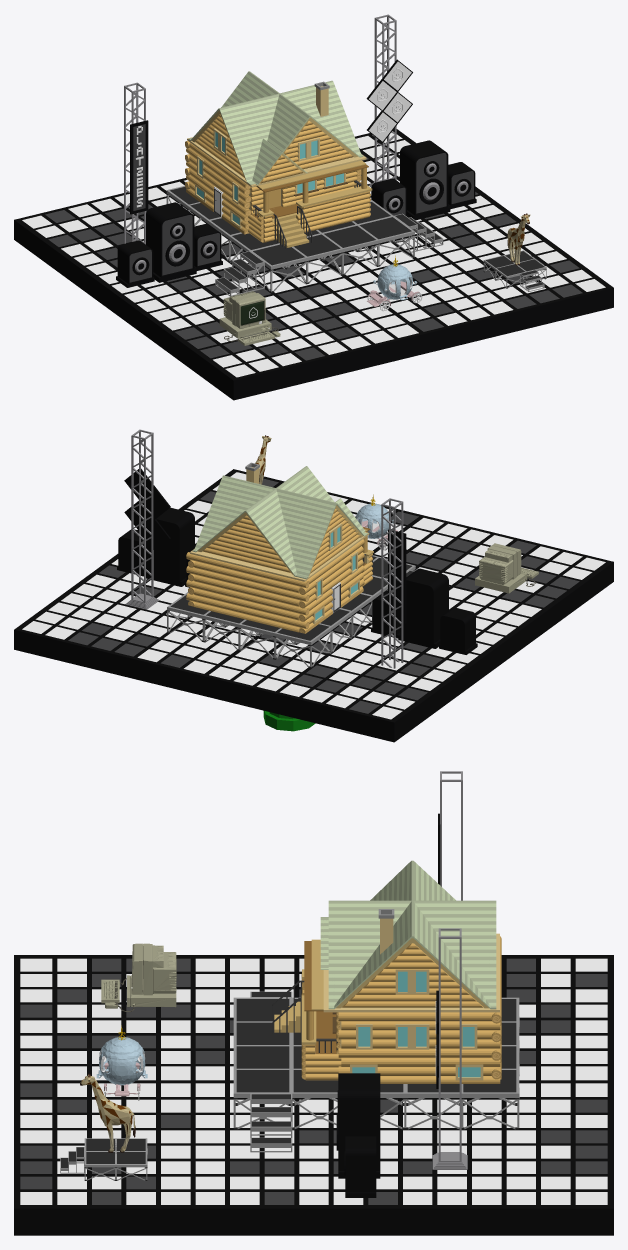
The picture shows the model from 3 angles, top to bottom: view 1: azimuth 30°, elevation 25°; view 2: azimuth 150°, elevation 25°; view 3: azimuth 270°, elevation 25°; orthographic projection. The views are drawn at different scales.
Parts seen in each view (by area): view 1: Cube.008, Cube.1516, OBJRANDOM_RETRO_PC, VEHICLES_FANTASY_CARRIAGE, ANIMAL_JIRAFA; view 2: Cube.008, Cube.1516, OBJRANDOM_RETRO_PC, VEHICLES_FANTASY_CARRIAGE, UNDERGROUND_PIPES; view 3: Cube.008, Cube.1516, OBJRANDOM_RETRO_PC, VEHICLES_FANTASY_CARRIAGE, ANIMAL_JIRAFA.
Boxes of the visible parts, x1,y1,x2,y2 form: Cube.008: [14, 14, 613, 400]; Cube.1516: [185, 71, 372, 248]; OBJRANDOM_RETRO_PC: [219, 291, 280, 345]; VEHICLES_FANTASY_CARRIAGE: [367, 255, 422, 311]; ANIMAL_JIRAFA: [507, 213, 530, 265]; Cube.008: [14, 429, 613, 742]; Cube.1516: [186, 462, 373, 633]; OBJRANDOM_RETRO_PC: [475, 543, 538, 593]; VEHICLES_FANTASY_CARRIAGE: [355, 494, 397, 550]; UNDERGROUND_PIPES: [263, 711, 315, 731]; Cube.008: [14, 771, 613, 1235]; Cube.1516: [272, 860, 501, 1083]; OBJRANDOM_RETRO_PC: [101, 943, 176, 1011]; VEHICLES_FANTASY_CARRIAGE: [96, 1025, 147, 1100]; ANIMAL_JIRAFA: [80, 1073, 135, 1152].
Size of the model in its own units: 4000 by 2555 by 4000.
Materials: 40 (2 with a texture image).
